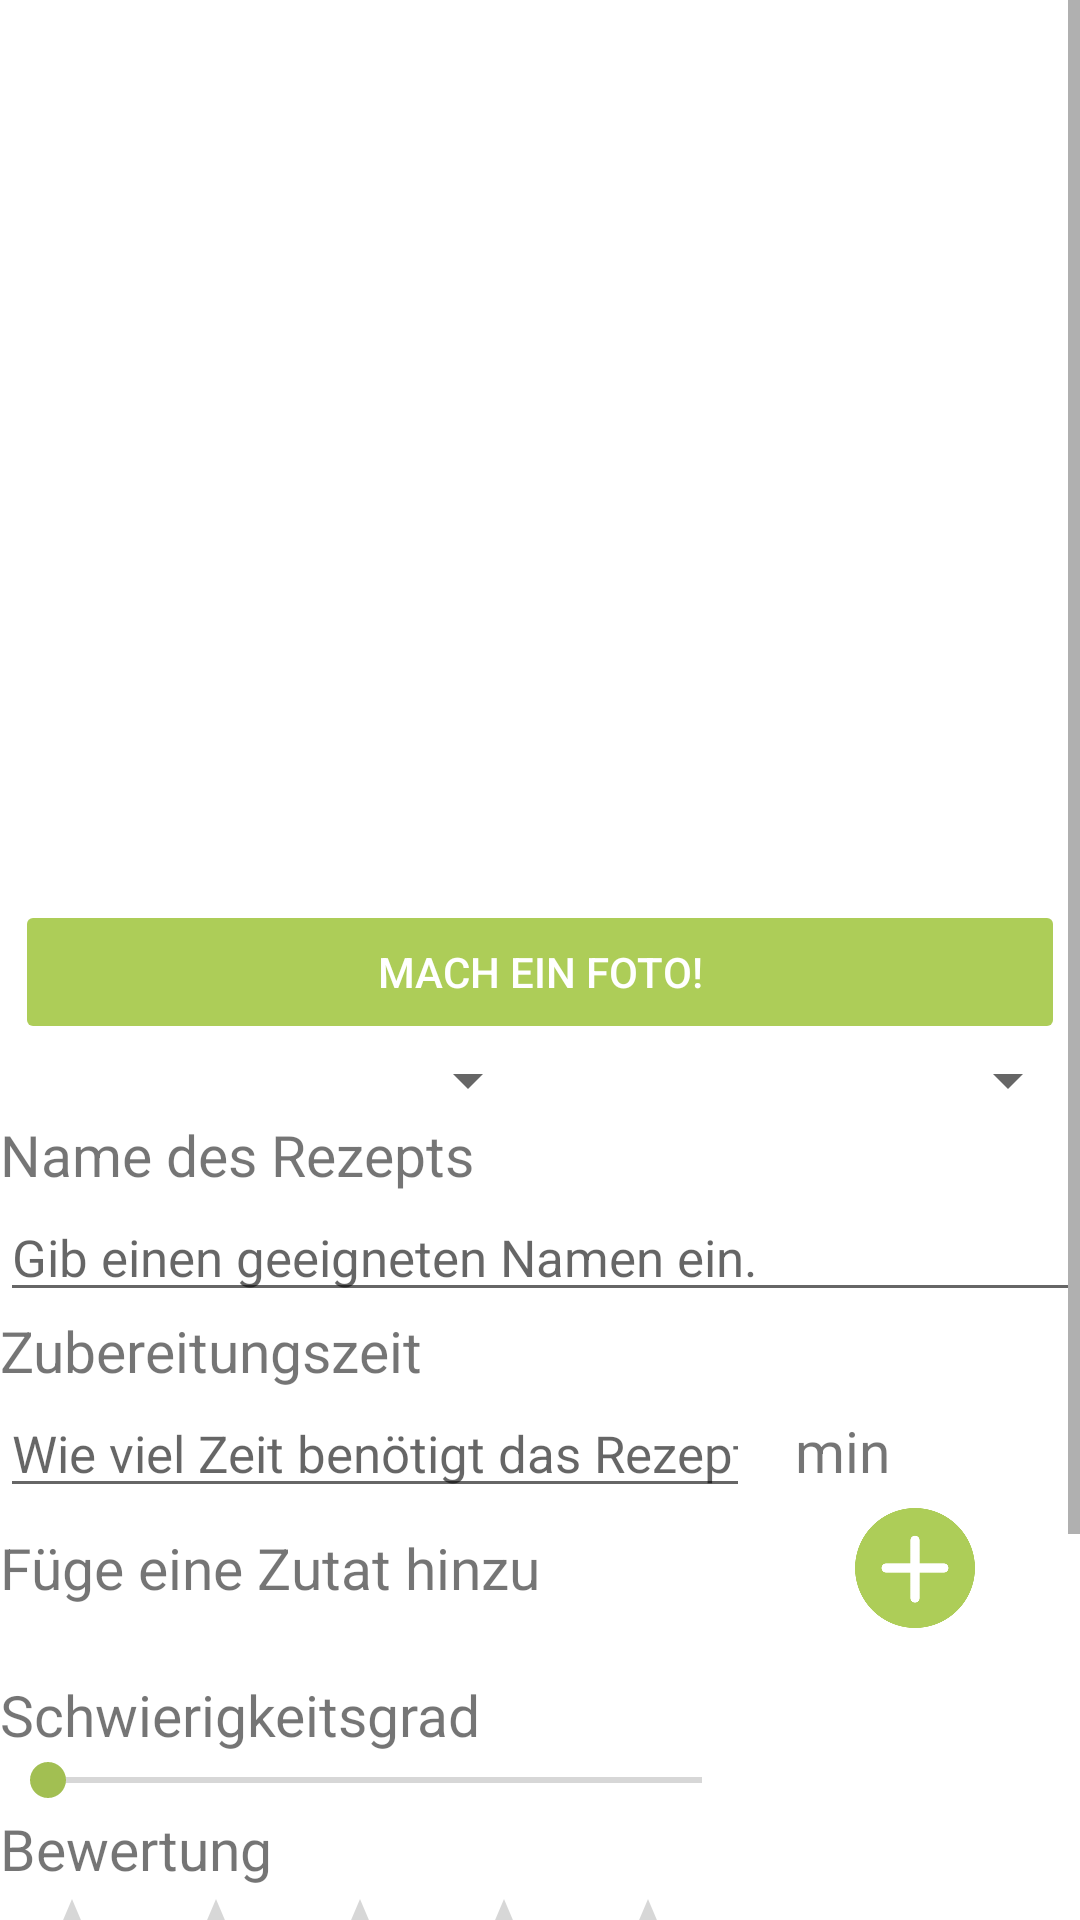

Where icons sit on this 1080*1920 app screen, as (x1, y1, x2, y2):
plusround: (855, 1508, 975, 1628)
